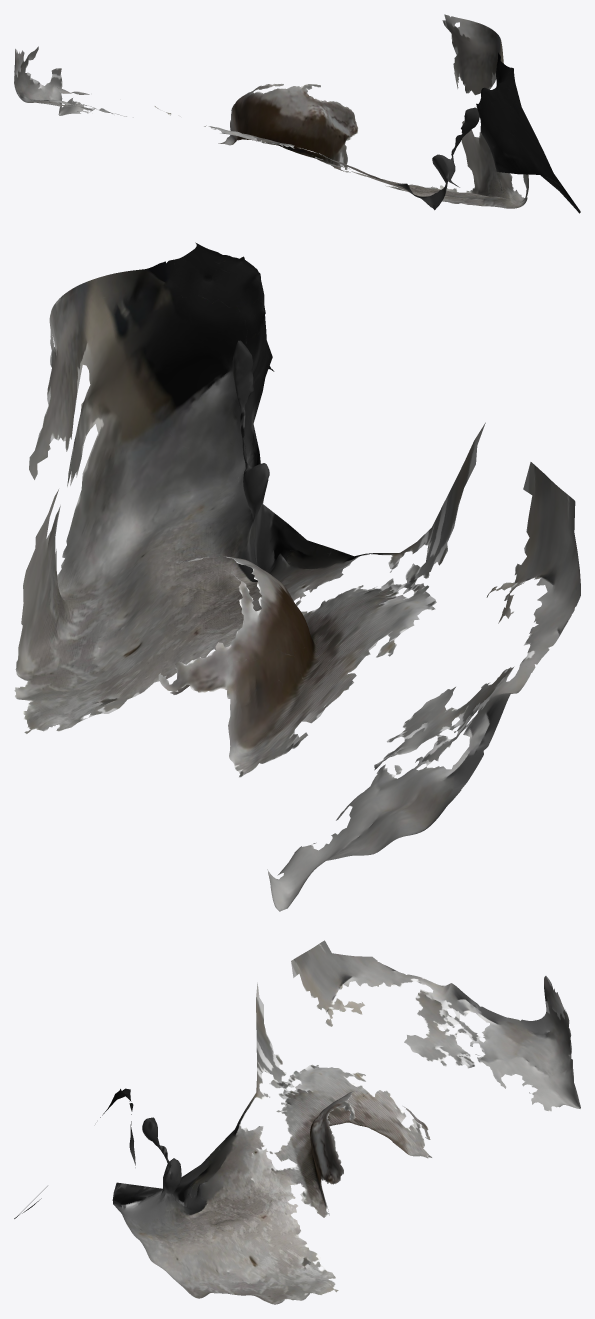
The picture shows the model from 3 angles, top to bottom: view 1: azimuth 30°, elevation 25°; view 2: azimuth 150°, elevation 25°; view 3: azimuth 270°, elevation 25°; orthographic projection. The views are drawn at different scales.
Size of the model in its own units: 0.66 by 0.3293 by 0.8372.
Materials: 1 (1 with a texture image).
